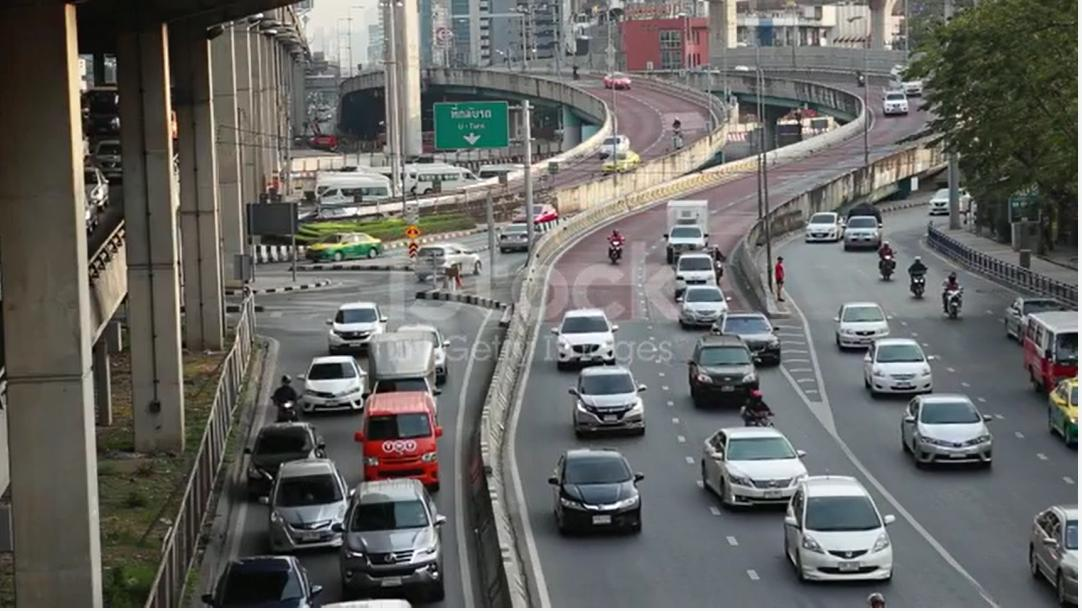car: (321, 469, 476, 611), (781, 453, 907, 611), (543, 441, 670, 560), (695, 415, 816, 524), (879, 385, 1006, 476), (263, 441, 356, 557), (567, 349, 656, 446), (349, 389, 432, 484), (547, 297, 629, 390), (301, 341, 370, 449), (687, 333, 766, 408), (251, 399, 310, 488), (859, 333, 929, 405), (823, 297, 894, 364), (709, 305, 779, 368), (667, 285, 748, 330), (659, 251, 732, 296), (327, 299, 380, 360), (479, 220, 560, 258), (798, 205, 846, 260), (835, 211, 886, 261)
motorcycle: (939, 269, 968, 326), (601, 229, 633, 273), (911, 249, 929, 308), (877, 241, 899, 286)
truck: (649, 189, 721, 269)
